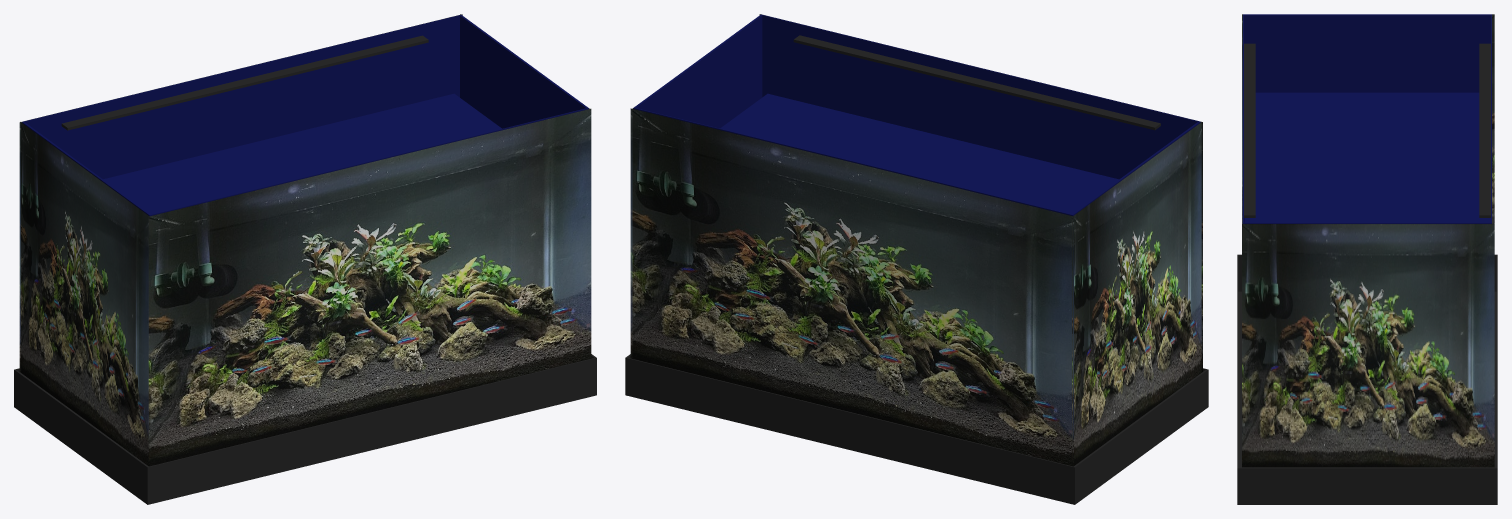
File: Fishbowl.fbx
3 views of the same model, side by side, from view 1: azimuth 30°, elevation 25°; view 2: azimuth 150°, elevation 25°; view 3: azimuth 270°, elevation 25° (orthographic). The views are drawn at different scales.
Parts seen in each view (by area): view 1: Plane.001, Cube, Plane.003, Cube.002, Cube.003, Cube.001, Plane; view 2: Plane, Cube, Plane.003, Cube.002, Cube.003, Cube.001, Plane.001; view 3: Plane.002, Cube.003, Cube, Cube.002, Cube.001, Plane.003.
Part boxes in pixels (x1,y1,x2,y2): Plane.001: (148, 108, 591, 466); Cube: (22, 15, 588, 216); Plane.003: (20, 122, 149, 465); Cube.002: (14, 354, 596, 504); Cube.003: (103, 93, 501, 214); Cube.001: (61, 35, 428, 130); Plane: (19, 14, 462, 372); Plane: (630, 108, 1073, 466); Cube: (633, 14, 1200, 216); Plane.003: (1072, 122, 1201, 466); Cube.002: (625, 354, 1208, 504); Cube.003: (720, 93, 1118, 214); Cube.001: (793, 35, 1160, 130); Plane.001: (759, 14, 1202, 372); Plane.002: (1242, 224, 1494, 467); Cube.003: (1244, 92, 1490, 222); Cube: (1243, 14, 1491, 223); Cube.002: (1237, 254, 1497, 504); Cube.001: (1244, 43, 1490, 217); Plane.003: (1242, 14, 1494, 223).
Size of the model in its own units: 87.93 by 53.53 by 45.3.
